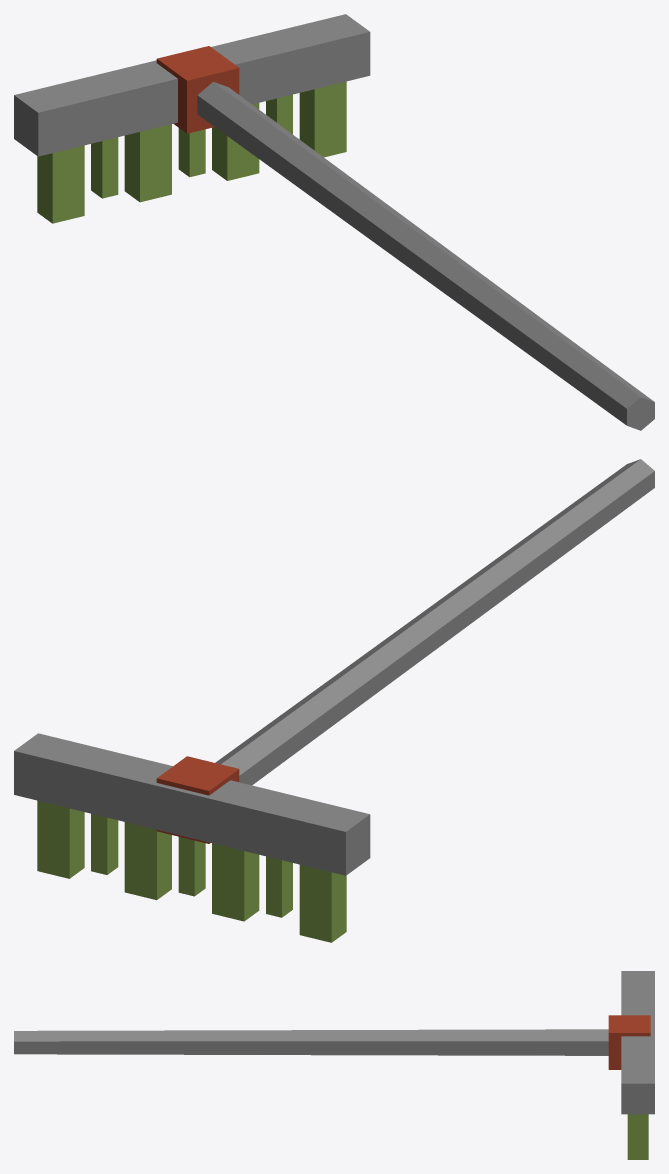
File: hisui.glb
The picture shows the model from 3 angles, top to bottom: view 1: azimuth 30°, elevation 25°; view 2: azimuth 150°, elevation 25°; view 3: azimuth 270°, elevation 25°; orthographic projection. The views are drawn at different scales.
Parts seen in each view (by area): view 1: Head, Handle, tine_0, tine_2, tine_6, tine_4, tine_1, tine_3, tine_5; view 2: Head, Handle, tine_0, tine_6, tine_2, tine_4, tine_5, tine_3, tine_1; view 3: Handle, Head, tine_6.
Part boxes in pixels (x1,y1,x2,y2): Head: (14, 14, 370, 156); Handle: (197, 82, 654, 430); tine_0: (37, 145, 84, 223); tine_2: (124, 124, 171, 202); tine_6: (299, 81, 346, 157); tine_4: (212, 103, 259, 180); tine_1: (91, 137, 118, 198); tine_3: (178, 128, 205, 177); tine_5: (266, 94, 292, 134); Head: (14, 733, 370, 875); Handle: (215, 459, 654, 785); tine_0: (299, 864, 346, 942); tine_6: (37, 800, 84, 878); tine_2: (212, 843, 259, 921); tine_4: (124, 822, 171, 900); tine_5: (91, 813, 118, 874); tine_3: (178, 837, 205, 896); tine_1: (266, 856, 292, 917); Handle: (14, 1029, 608, 1055); Head: (608, 971, 654, 1114); tine_6: (627, 1114, 648, 1159).
Bounding box in the file's own units: 19 × 6.75 × 45.7.
